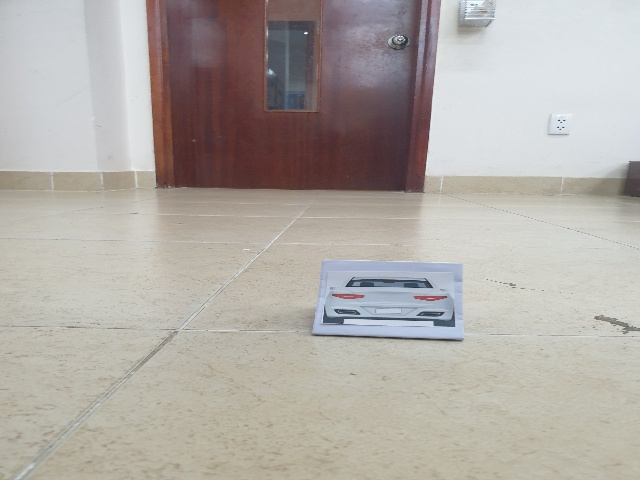Car: (325, 267, 459, 334)
